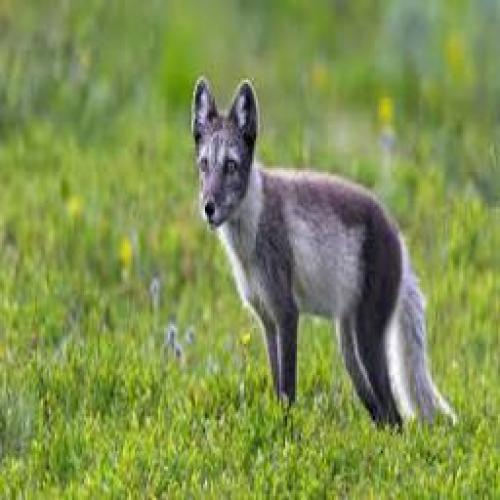arctic_fox-endangered: (189, 76, 458, 431)
